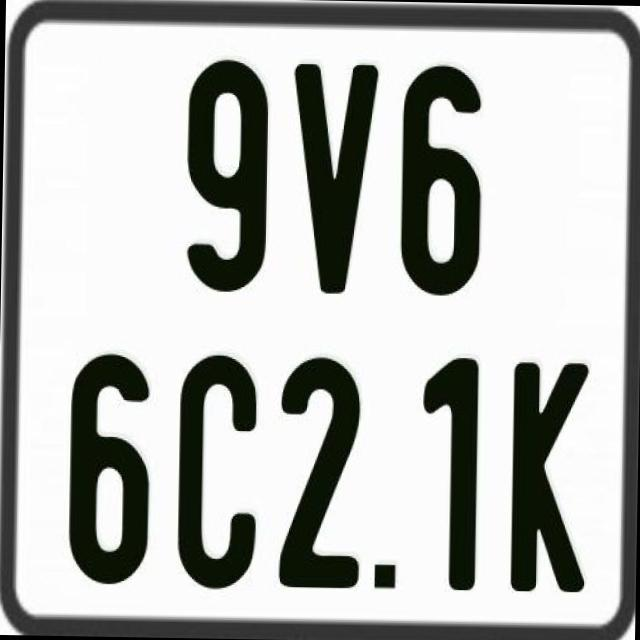1: (418, 356, 478, 594)
2: (275, 357, 365, 592)
6: (398, 66, 486, 302), (64, 351, 148, 589)
9: (184, 58, 268, 296)
C: (172, 353, 262, 589)
K: (506, 358, 589, 590)
V: (287, 62, 375, 298)
